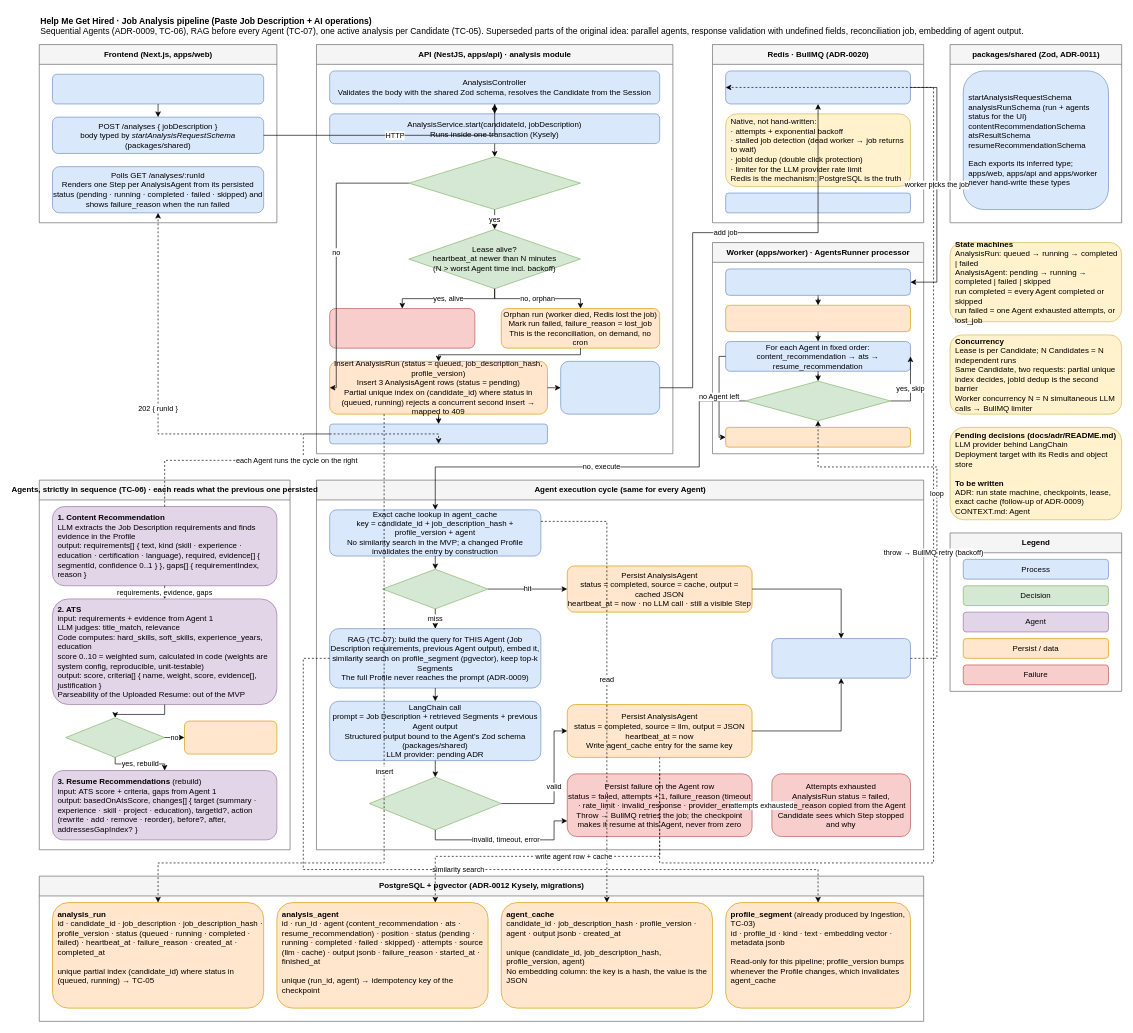
The diagram is 1133 pixels wide and 1033 high, and some of its shapes have lost their labels. The shapes that lost their labels are listed below. From the top down, each one's centre as x and y in pixels, then its label:
At point (158, 89): "Candidate pastes a Job Description".
At point (817, 87): "Queue: agents-job one job per AnalysisRun".
At point (494, 183): "Active run for this Candidate? (status in queued, running)".
At point (817, 202): "Job removed on complete; run state lives in the DB".
At point (817, 281): "Load AnalysisRun + AnalysisAgent rows by runId".
At point (402, 328): "409 Conflict analysis already in progress returns the active runId".
At point (817, 318): "status = running, heartbeat_at = now (lease start)".
At point (610, 387): "Enqueue agents-job jobId = candidate:<id> (queue dedup) data = { runId }".
At point (818, 400): "Checkpoint: Agent already completed or skipped?".
At point (438, 433): "202 Accepted { runId }".
At point (817, 437): "No Agent left → AnalysisRun completed".
At point (435, 589): "Exact hit?".
At point (840, 658): "Next Agent (back to the checkpoint loop)".
At point (115, 737): "score < 8 ?".
At point (230, 737): "Agent 3 status = skipped run still completes".
At point (435, 803): "Response parses against the Zod schema?".
